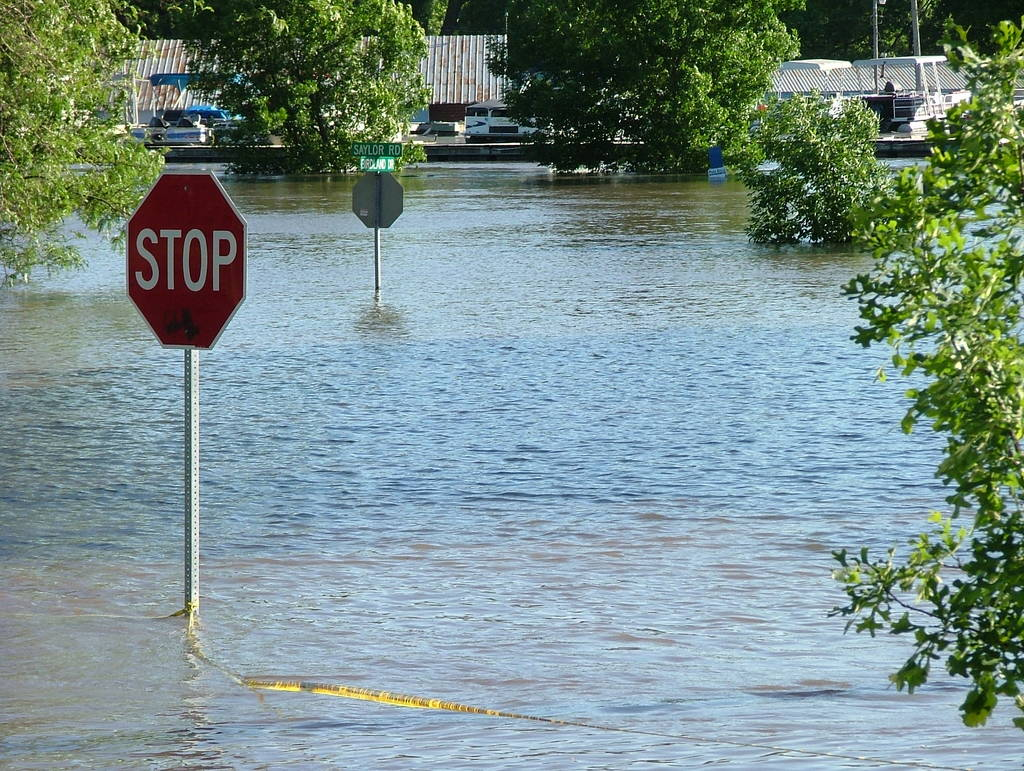stop_sign: (128, 172, 249, 350)
